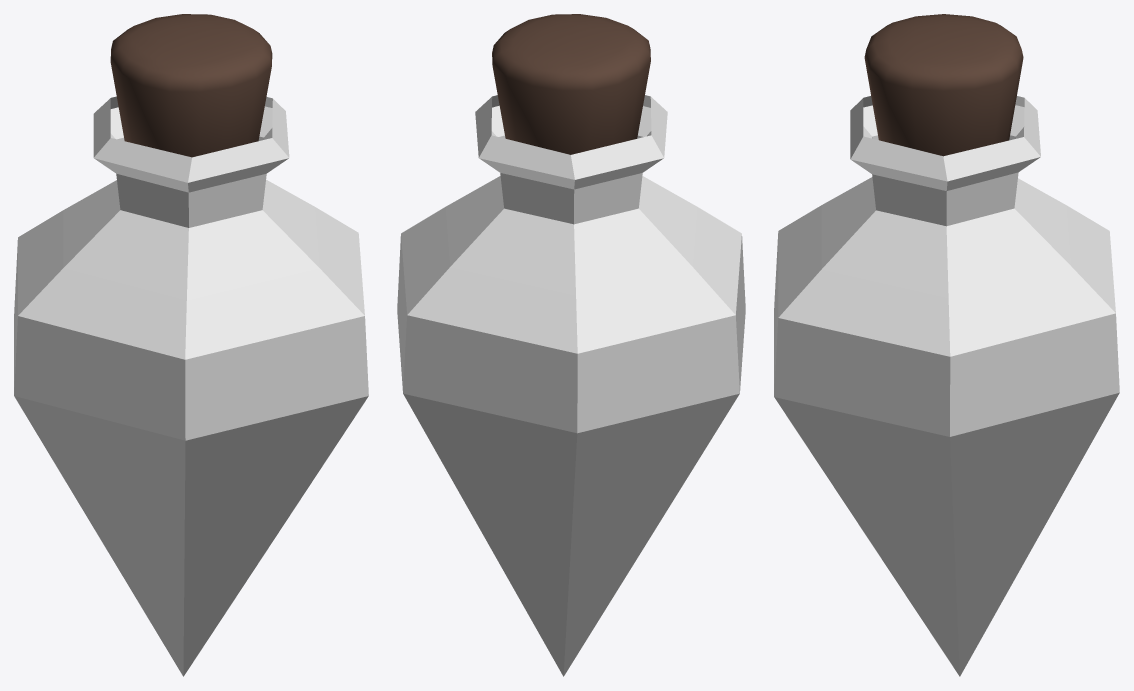
Rendered from Potion5.fbx.
The picture shows the model from 3 angles, left to right: view 1: azimuth 30°, elevation 25°; view 2: azimuth 150°, elevation 25°; view 3: azimuth 270°, elevation 25°; orthographic projection.
Visible parts, largest first — view 1: Potion10_Filled; view 2: Potion10_Filled; view 3: Potion10_Filled.
Part boxes in pixels (x1,y1,x2,y2): Potion10_Filled: (14, 14, 368, 676); Potion10_Filled: (397, 14, 745, 676); Potion10_Filled: (774, 14, 1119, 676).
Bounding box in the file's own units: 43.79 × 77.42 × 37.92.
